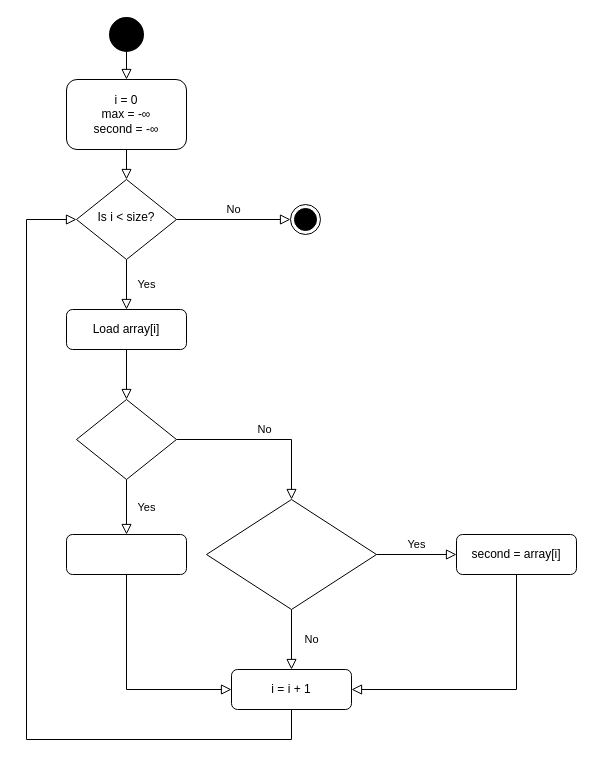
The diagram is 594 pixels wide and 767 high, and some of its shapes have lost their labels. Here are the shapes that lost their labels. From the top down, the box of each, then its label:
(76, 398, 176, 480): Is array[i] > max?
(66, 534, 186, 574): second = max max = array[i]
(206, 498, 376, 610): Is array[i] > second AND array[i] ≠ max?
